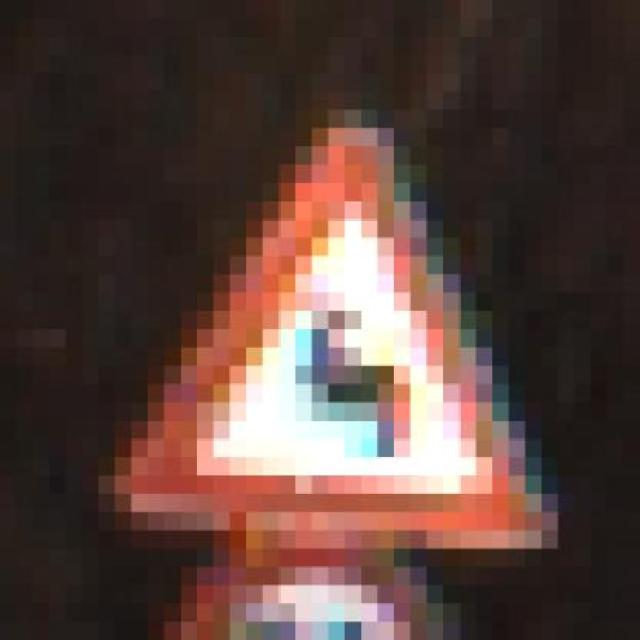Left Zig Zag Traffic: (66, 92, 592, 586)
